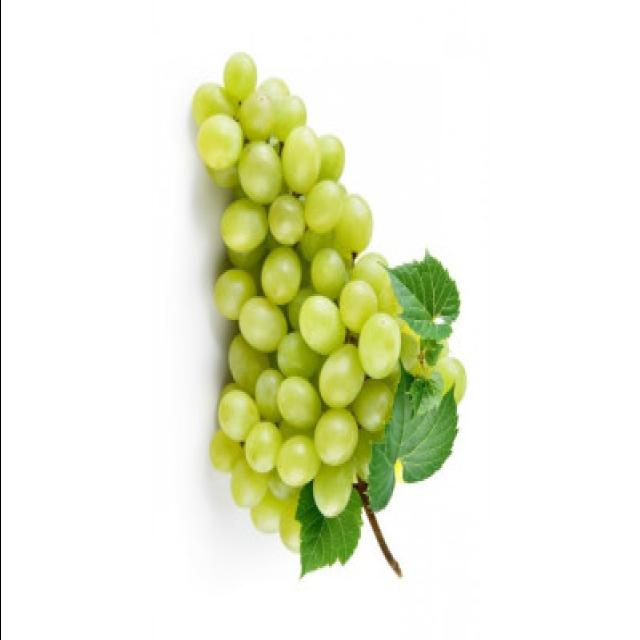green grape: (183, 49, 469, 578)
